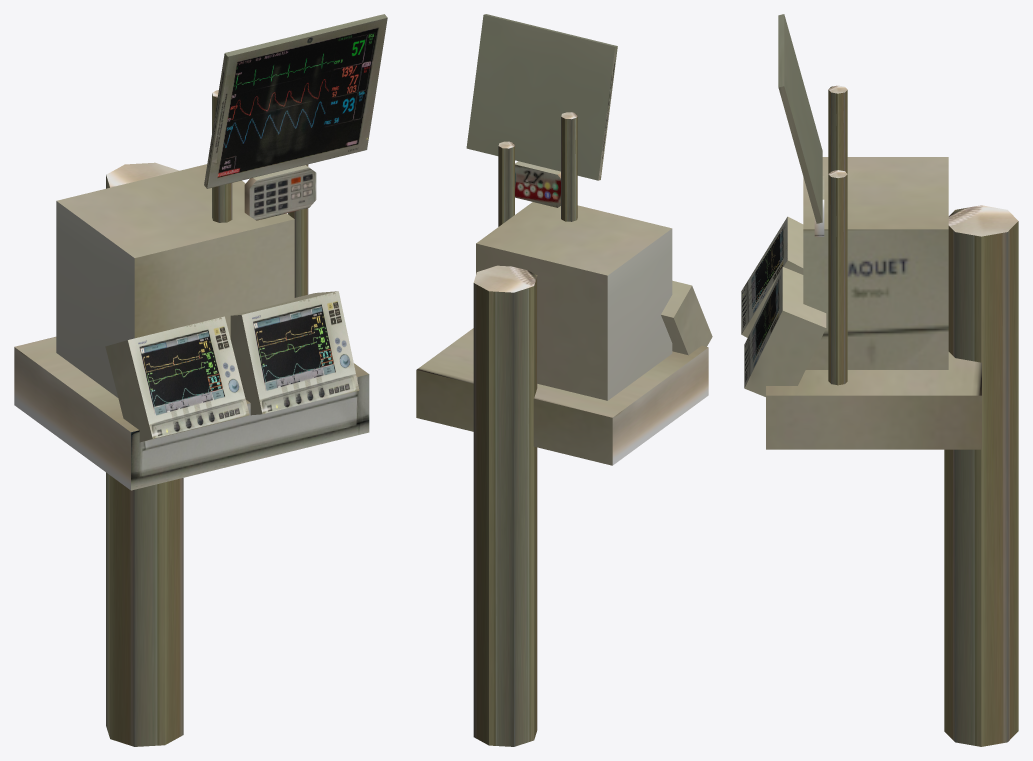
Rendered from screen1.fbx.
3 renders of one model, left to right at view 1: azimuth 30°, elevation 25°; view 2: azimuth 150°, elevation 25°; view 3: azimuth 270°, elevation 25°, orthographic. The views are drawn at different scales.
Visible parts, largest first — view 1: MSH_screens1; view 2: MSH_screens1; view 3: MSH_screens1.
Part boxes in pixels (box(x1,y1,x2,y2)): MSH_screens1: box(14, 14, 387, 746); MSH_screens1: box(416, 14, 712, 746); MSH_screens1: box(741, 14, 1018, 746).
Bounding box in the file's own units: 4.62 × 12.78 × 4.55.
1 material, 1 textured.
